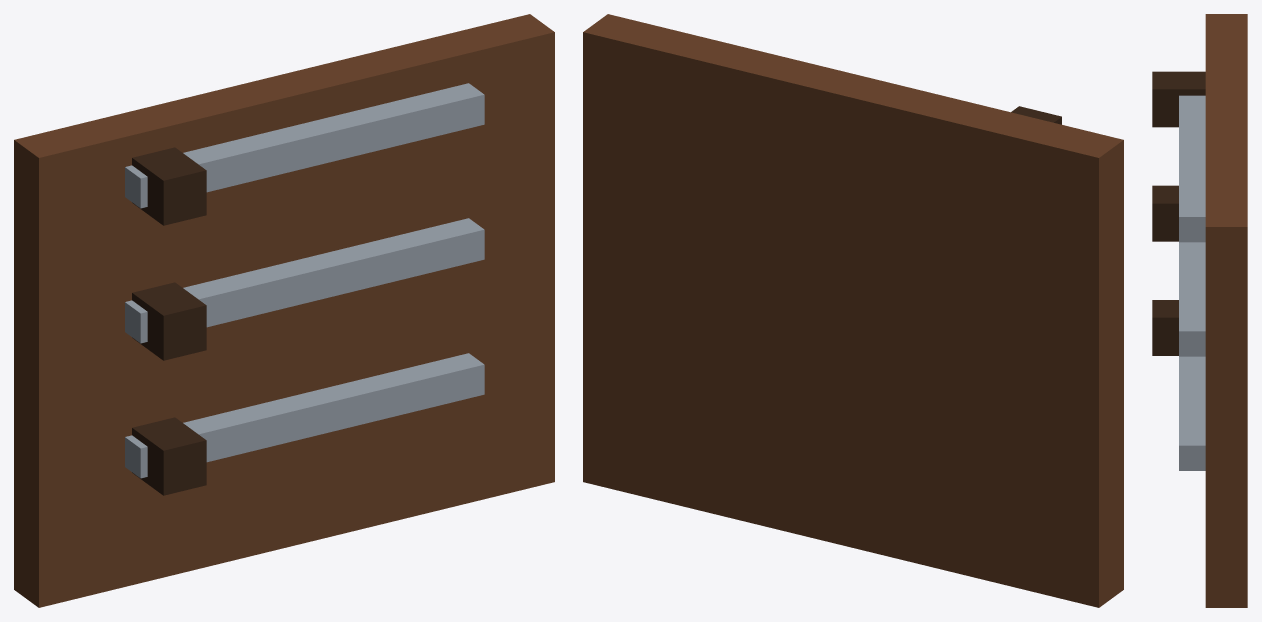
The model's file is f_rack.glb.
3 views of the same model, side by side, from view 1: azimuth 30°, elevation 25°; view 2: azimuth 150°, elevation 25°; view 3: azimuth 270°, elevation 25° (orthographic). The views are drawn at different scales.
Parts seen in each view (by area): view 1: rack; view 2: rack; view 3: rack.
Part boxes in pixels (x1=…): rack: x1=14, y1=14, x2=554, y2=607; rack: x1=583, y1=14, x2=1123, y2=607; rack: x1=1152, y1=14, x2=1247, y2=607.
Size of the model in its own units: 1.8 by 1.5 by 0.34.
